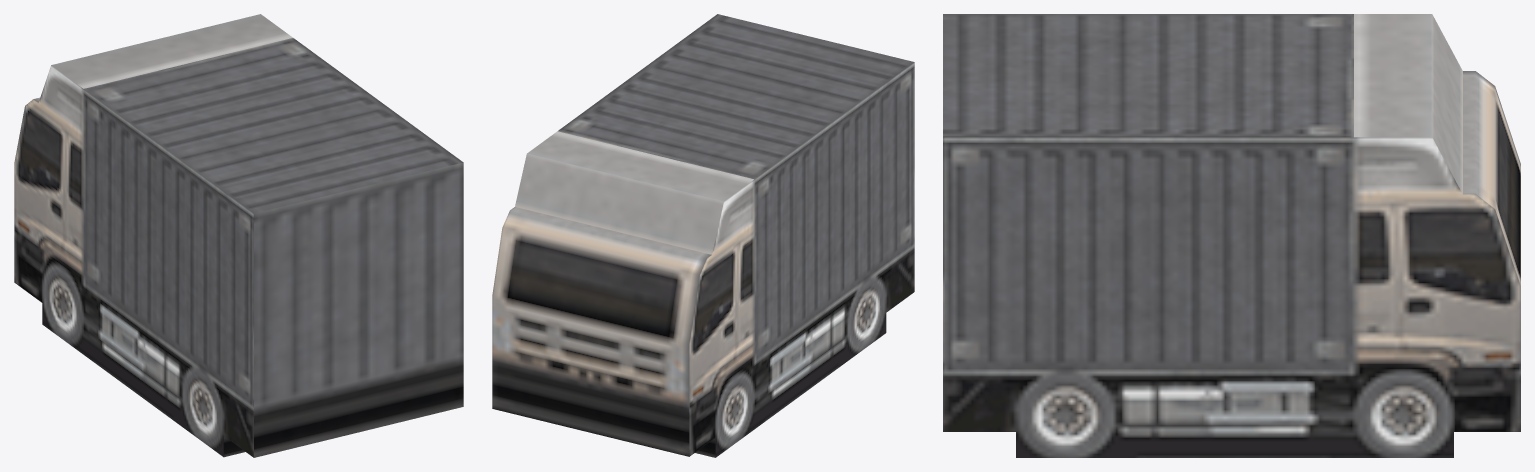
Rendered from truck-grey.glb.
3 views of the same model, side by side, from view 1: azimuth 30°, elevation 25°; view 2: azimuth 150°, elevation 25°; view 3: azimuth 270°, elevation 25° (orthographic). The views are drawn at different scales.
Parts seen in each view (by area): view 1: truck-grey; view 2: truck-grey; view 3: truck-grey.
Part boxes in pixels (left/top/right/bottom): truck-grey: left=14, top=14, right=463, bottom=457; truck-grey: left=492, top=14, right=914, bottom=457; truck-grey: left=943, top=14, right=1520, bottom=457.
Size of the model in its own units: 0.83 by 1.01 by 1.64.
Materials: 1 (1 with a texture image).
